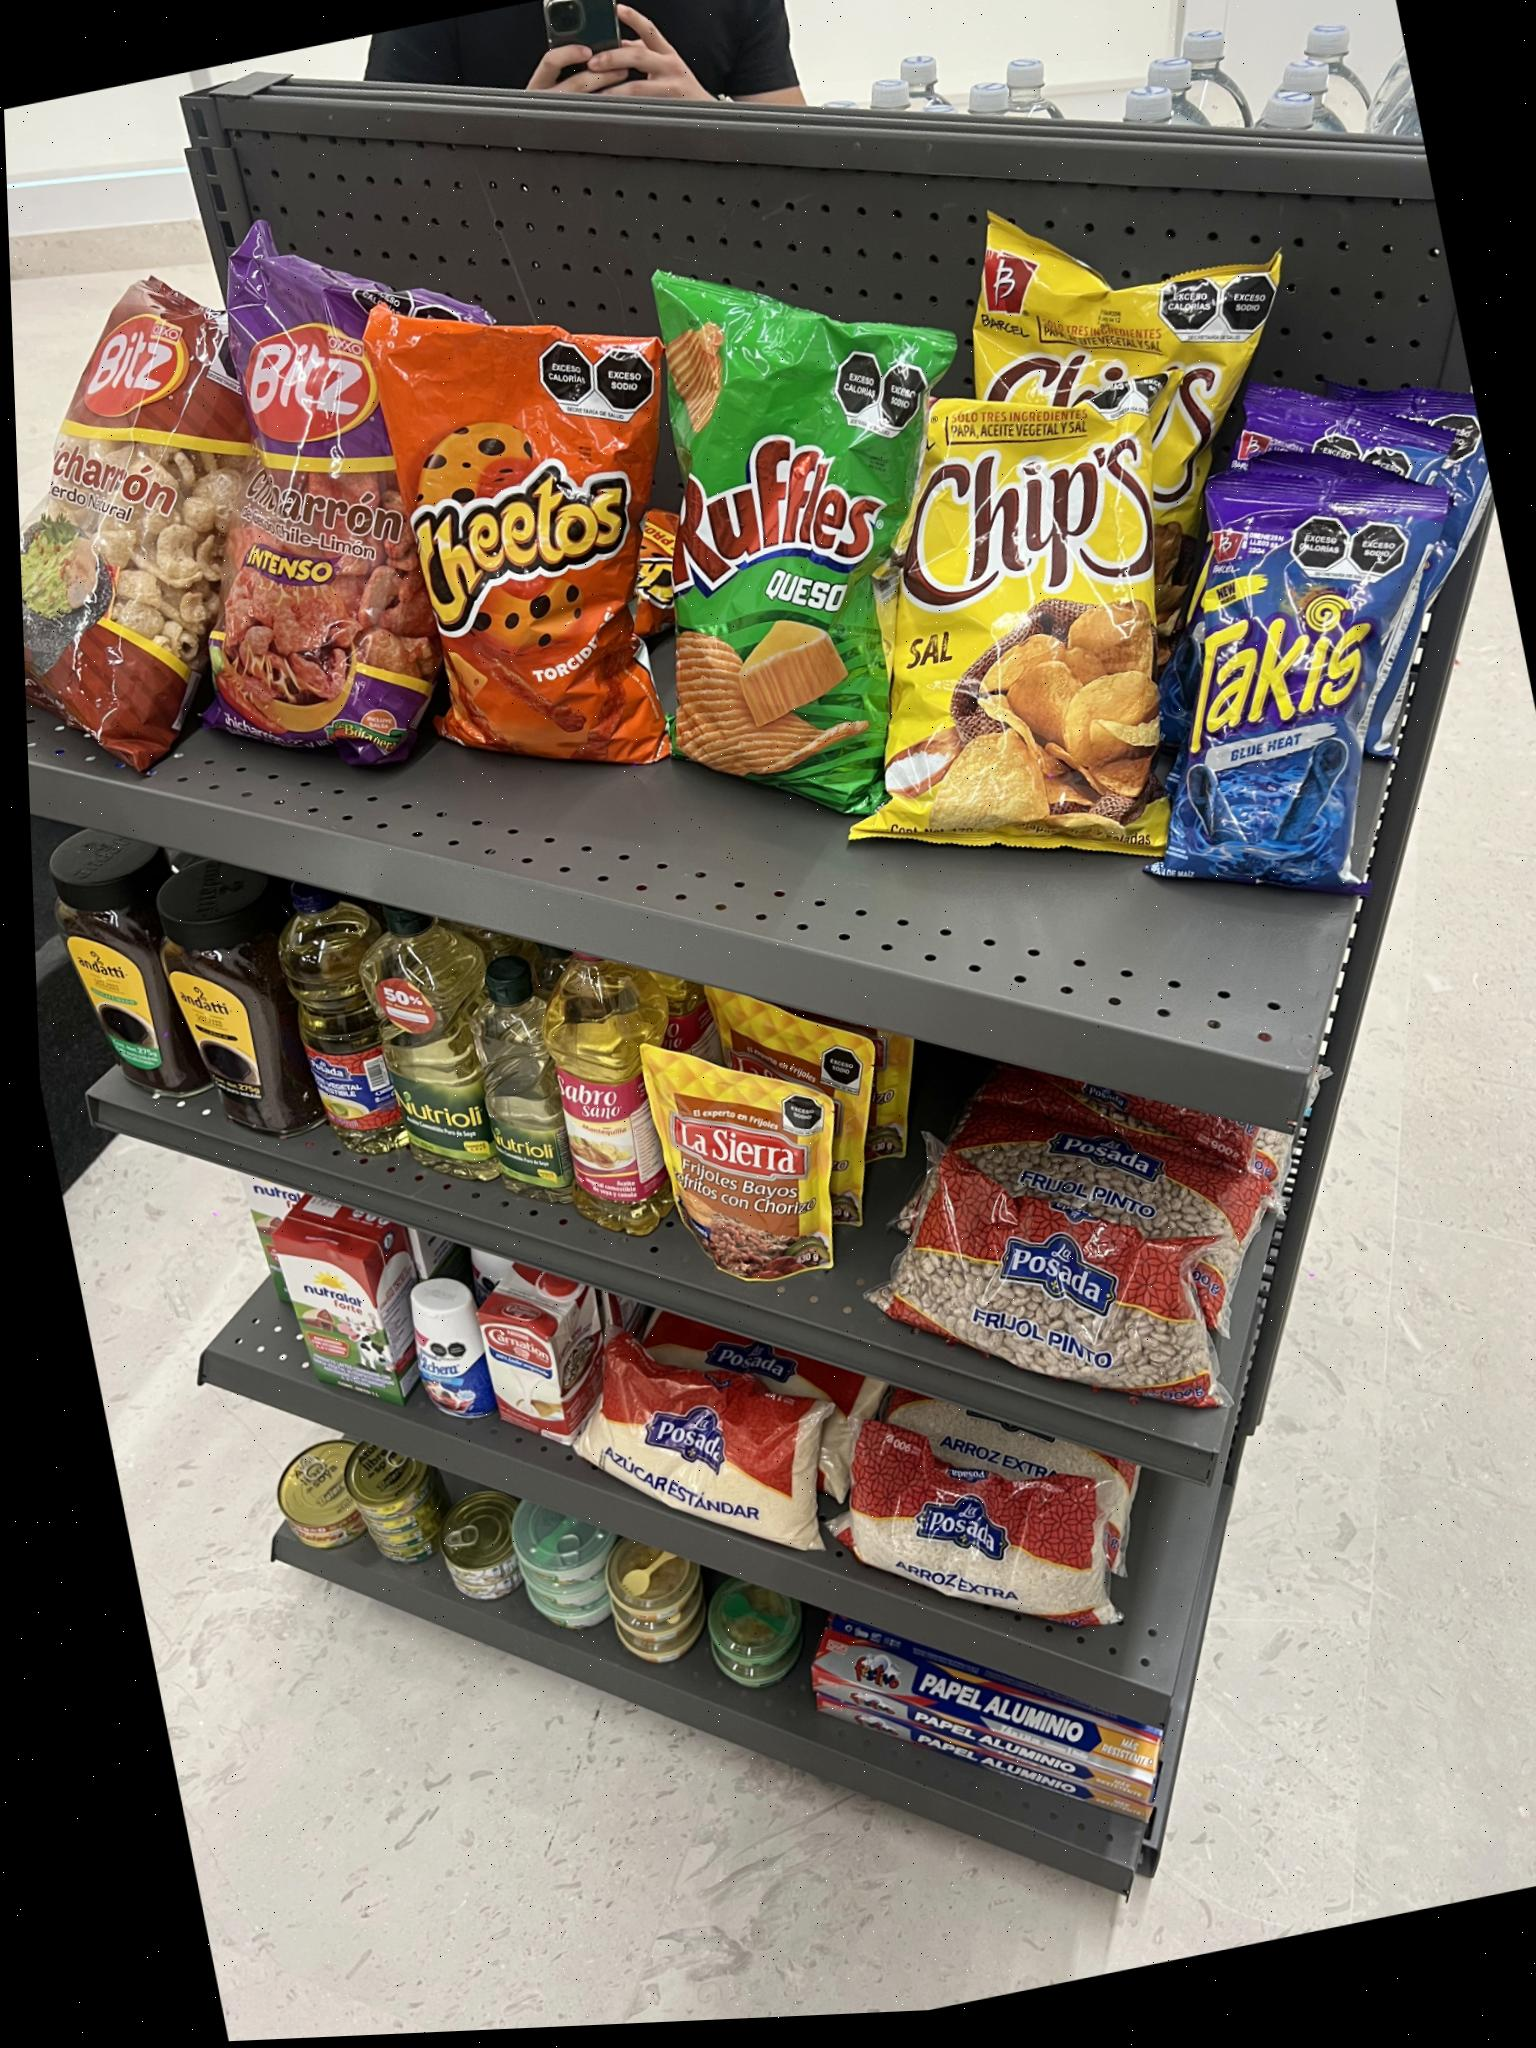aceite_nutrioli_400ml: (458, 955, 568, 1205)
aceite_nutrioli_850ml: (352, 897, 502, 1190)
aceite_posada: (265, 860, 410, 1171)
aceite_saborsano: (528, 921, 673, 1251)
andatti: (32, 829, 194, 1118), (140, 882, 308, 1159)
arroz_laposada: (852, 1414, 1105, 1635), (813, 1667, 1154, 1824)
atun_dolores_blanco: (505, 1482, 615, 1646)
atun_dolores_masdos: (268, 1434, 365, 1556)
atun_dolores_naranja: (600, 1537, 713, 1679)
atun_dolores_normal: (337, 1427, 447, 1588)
atun_mazatun: (434, 1488, 529, 1608)
atun_mazatun_verde: (697, 1571, 815, 1706)
azucar_laposada: (573, 1345, 833, 1551)
carnation: (478, 1305, 574, 1451)
cheetos: (355, 256, 684, 808)
chicharron_bitz_intenso: (216, 247, 415, 758)
chicharron_bitz_natural: (21, 269, 232, 761)
chips_sal: (868, 403, 1168, 853)
frijol_laposada: (878, 1158, 1210, 1417)
frijol_lasierra: (644, 1040, 834, 1288)
lalechera: (405, 1303, 490, 1430)
leche_nutralatforte: (279, 1240, 395, 1419), (240, 1174, 303, 1247)
ruffles: (623, 235, 916, 839)
takis: (1165, 469, 1447, 882)
